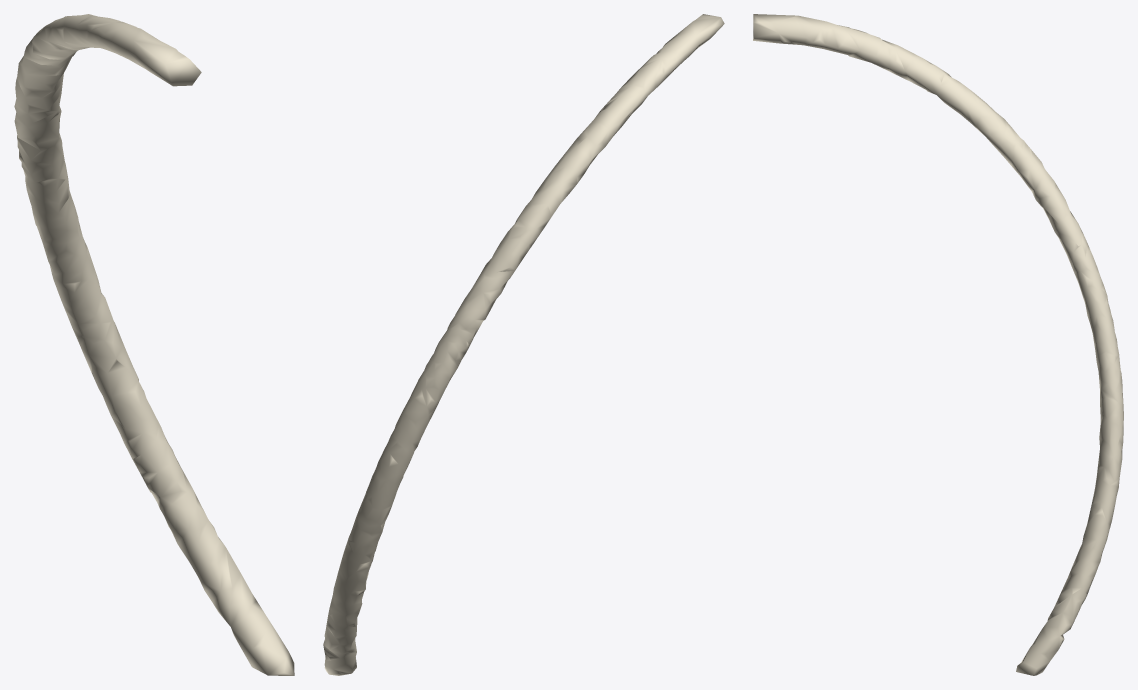
File: rib_11_r.glb
The picture shows the model from 3 angles, left to right: view 1: azimuth 30°, elevation 25°; view 2: azimuth 150°, elevation 25°; view 3: azimuth 270°, elevation 25°; orthographic projection. The views are drawn at different scales.
Parts seen in each view (by area): view 1: geometry_0; view 2: geometry_0; view 3: geometry_0.
Boxes of the visible parts, left/top/right/bottom form: geometry_0: left=14, top=14, right=294, bottom=675; geometry_0: left=323, top=14, right=724, bottom=675; geometry_0: left=753, top=14, right=1123, bottom=675.
Size of the model in its own units: 0.2941 by 0.6793 by 0.4124.
